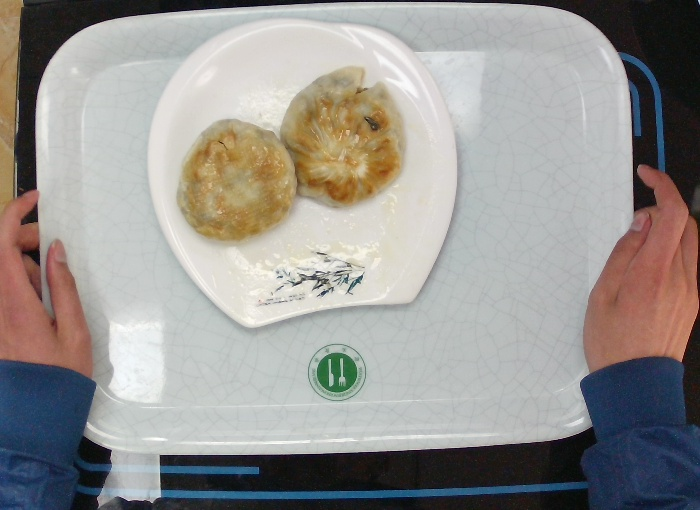JYsf-Mian_Pan: (142, 16, 459, 328)
